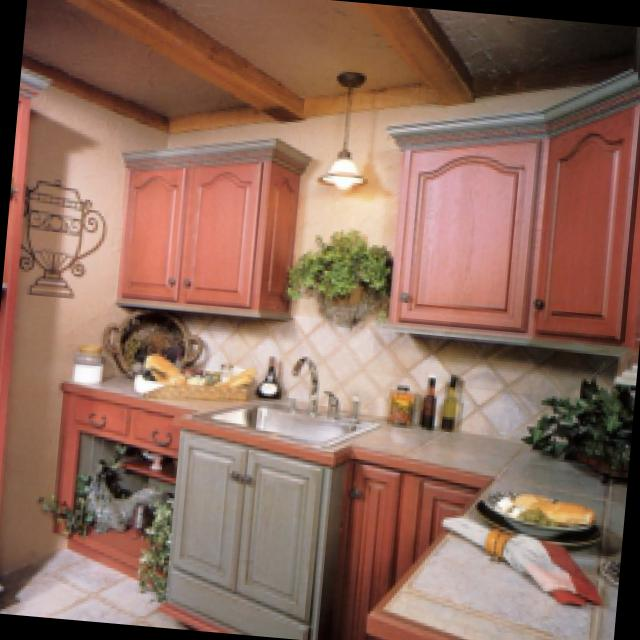basket crop: (99, 309, 198, 379)
basket fruits: (135, 353, 253, 399)
bottle crop: (253, 351, 277, 396), (438, 371, 453, 427), (416, 374, 431, 427)
cabinet door: (380, 29, 640, 381), (160, 426, 346, 635), (114, 135, 309, 315), (48, 387, 184, 593), (349, 458, 469, 619)
ceiling beam: (21, 0, 640, 129)
ceiling lamps: (315, 68, 359, 187)
counter bottom: (345, 414, 622, 640)
jar -X: (69, 344, 102, 385)
lamp crop: (518, 376, 630, 479)
napkin ring: (438, 510, 599, 602)
plant -x: (285, 227, 386, 326), (139, 495, 167, 592)
plate food: (477, 491, 605, 545)
pot hanger: (381, 382, 414, 425)
shelves crop: (0, 71, 50, 503)
sink basin: (199, 397, 371, 446)
sink occluded: (286, 349, 337, 414)
